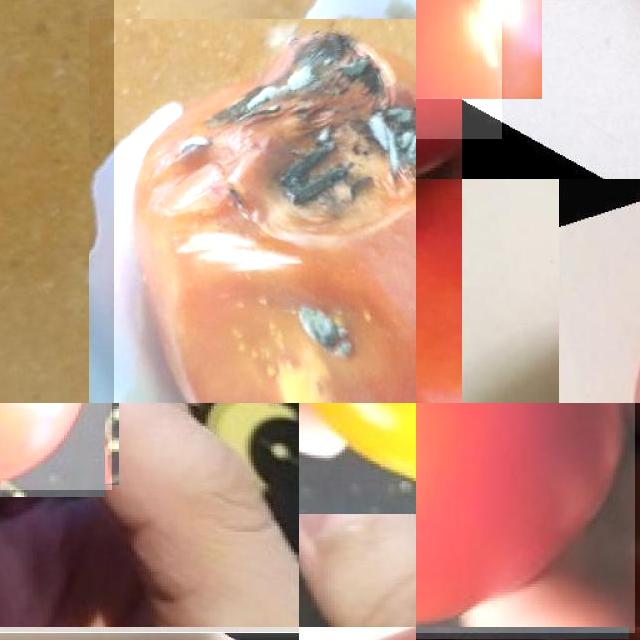Fresh Tomato: (416, 403, 635, 633), (559, 179, 640, 403), (416, 0, 502, 139), (416, 179, 462, 403), (0, 403, 112, 490)
Rotten Tomato: (114, 0, 416, 403), (299, 403, 416, 514)
